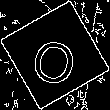O_N: (27, 25, 83, 85)
